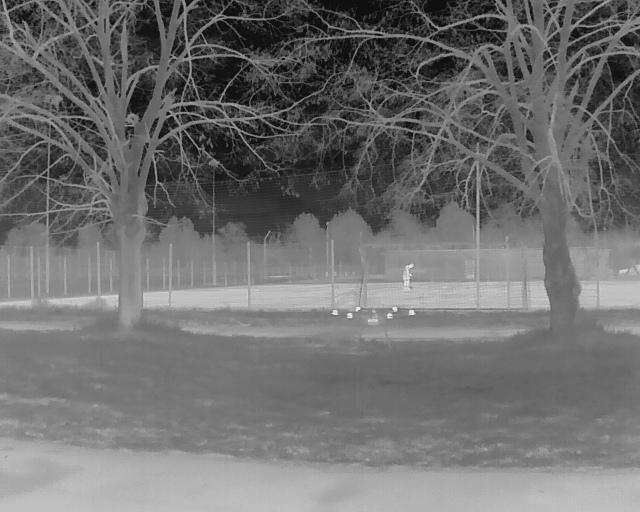drone: (324, 297, 420, 352)
